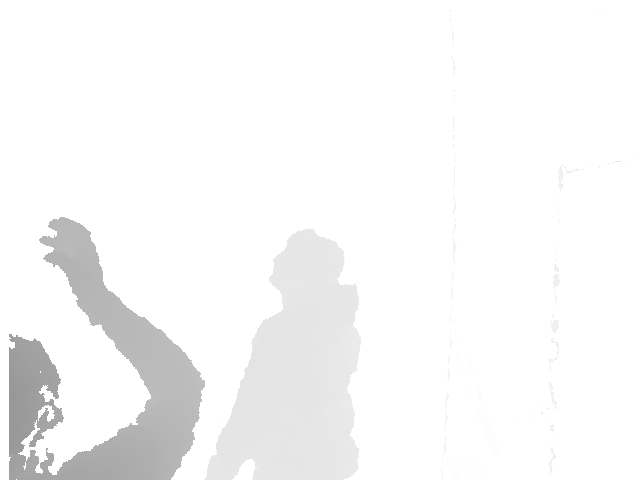hand: (39, 216, 112, 323)
head: (6, 334, 65, 480), (269, 228, 345, 311)
person: (9, 216, 206, 480), (205, 227, 363, 480)
